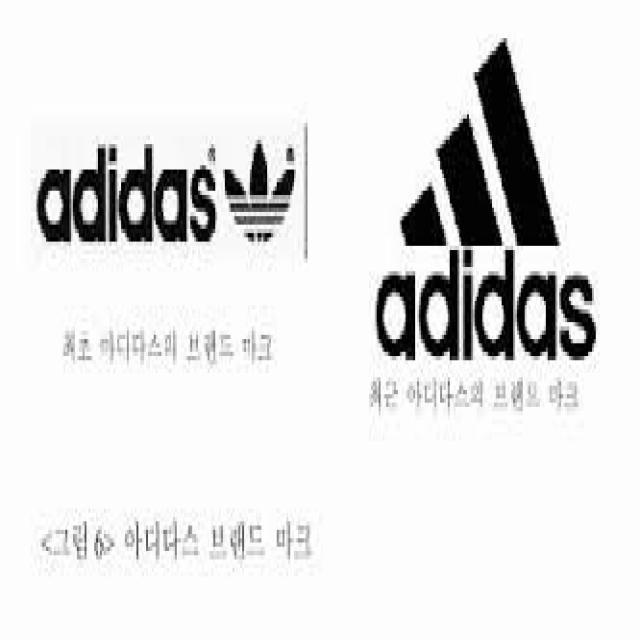Adidas: (219, 127, 302, 250)
